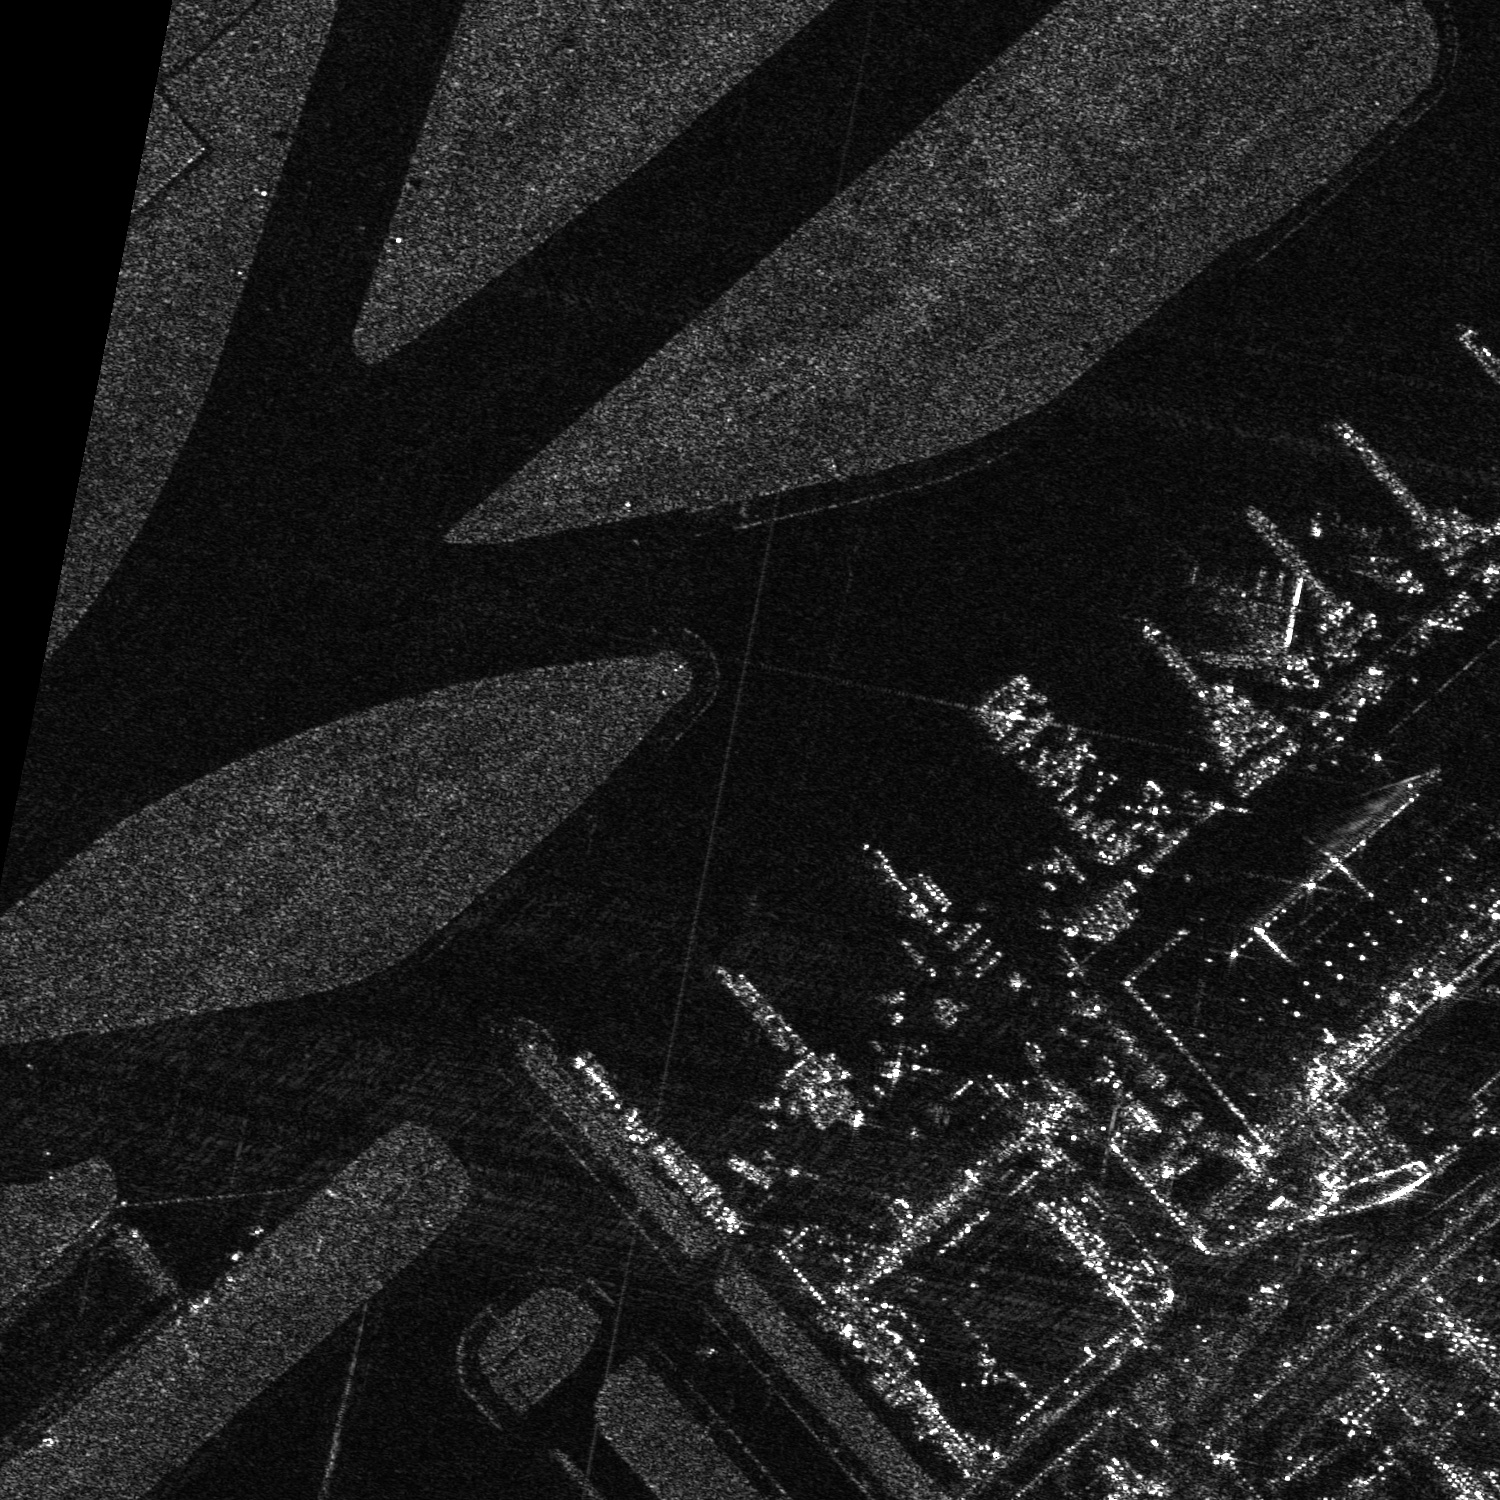Boeing787: (1192, 562, 1308, 673), (1313, 505, 1409, 582)
